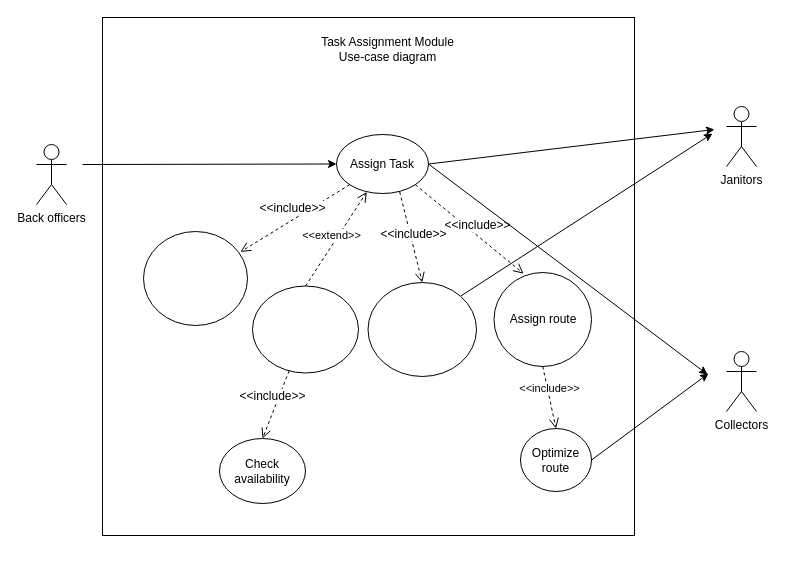
The diagram is 785 pixels wide and 561 high, and some of its shapes have lost their labels. Each missing label, with the centre of its shape:
"Assign schedule" goes at pixel 305 329.
"Assign to MCPs" goes at pixel 421 329.
"Assign vehicles" goes at pixel 195 278.
